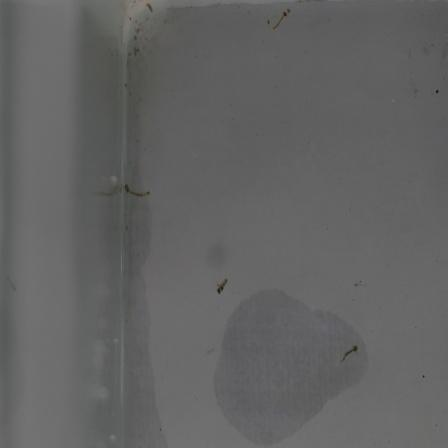Jentik-Nyamuk: (263, 4, 293, 37), (120, 177, 154, 204), (338, 341, 363, 364), (212, 274, 229, 299)
